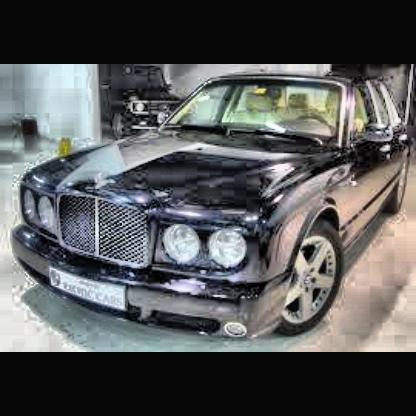Bentley Arnage Sedan 2009: (13, 76, 415, 336)
